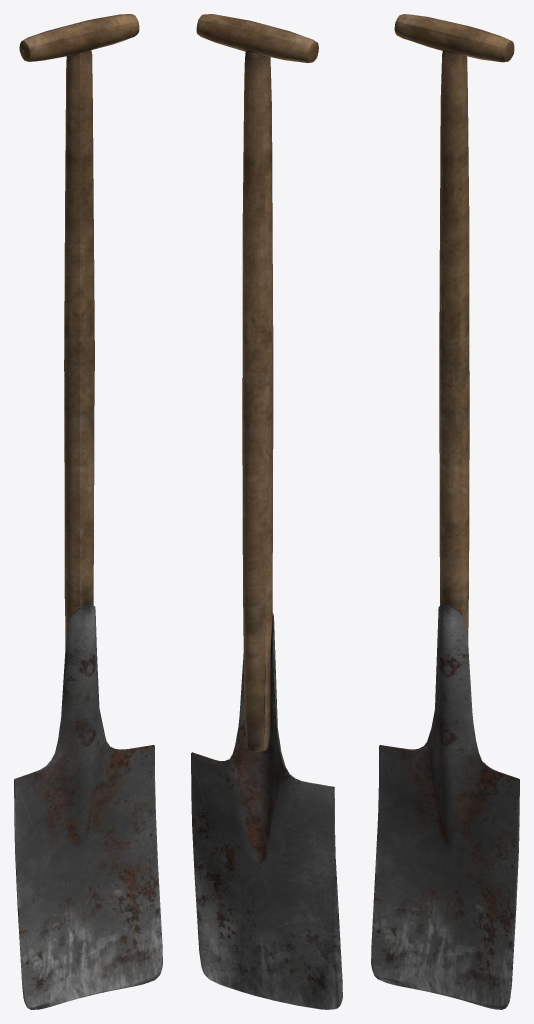
File: isl_spade.glb
3 views of the same model, side by side, from view 1: azimuth 30°, elevation 25°; view 2: azimuth 150°, elevation 25°; view 3: azimuth 330°, elevation 25° (orthographic). The views are drawn at different scales.
Parts seen in each view (by area): view 1: rusted_spade_01; view 2: rusted_spade_01; view 3: rusted_spade_01.
Boxes of the visible parts, x1=… form: rusted_spade_01: x1=14, y1=14, x2=162, y2=1009; rusted_spade_01: x1=191, y1=14, x2=342, y2=1009; rusted_spade_01: x1=371, y1=14, x2=519, y2=1009.
Bounding box in the file's own units: 0.1682 × 1.1 × 0.0459.
Materials: 1 (1 with a texture image).
